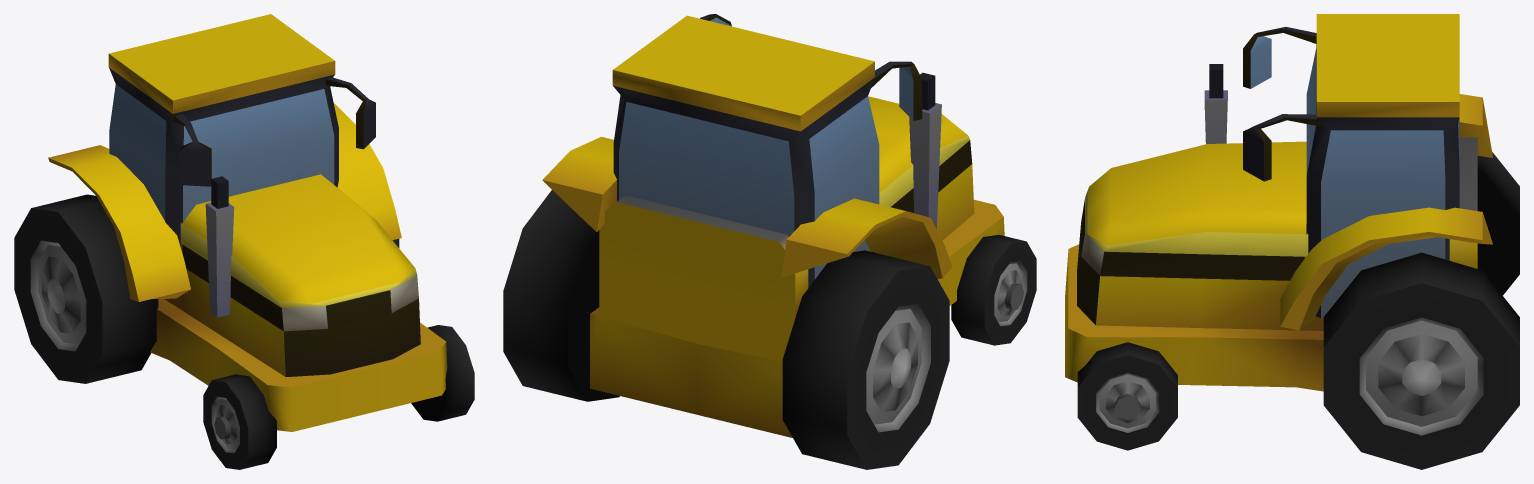
The model's file is vehicles-work-vehicles-tractor_v1.glb.
The picture shows the model from 3 angles, left to right: view 1: azimuth 30°, elevation 25°; view 2: azimuth 150°, elevation 25°; view 3: azimuth 270°, elevation 25°; orthographic projection. The views are drawn at different scales.
Parts seen in each view (by area): view 1: Tractor.001, Tractor; view 2: Tractor.001, Tractor; view 3: Tractor.001, Tractor.
Boxes of the visible parts, left/top/right/bottom form: Tractor.001: left=14, top=14, right=474, bottom=469; Tractor: left=30, top=84, right=334, bottom=453; Tractor.001: left=503, top=14, right=1036, bottom=469; Tractor: left=619, top=17, right=1027, bottom=432; Tractor.001: left=1065, top=14, right=1519, bottom=469; Tractor: left=1096, top=36, right=1483, bottom=435.
Bounding box in the file's own units: 3.93 × 3.62 × 4.5.
